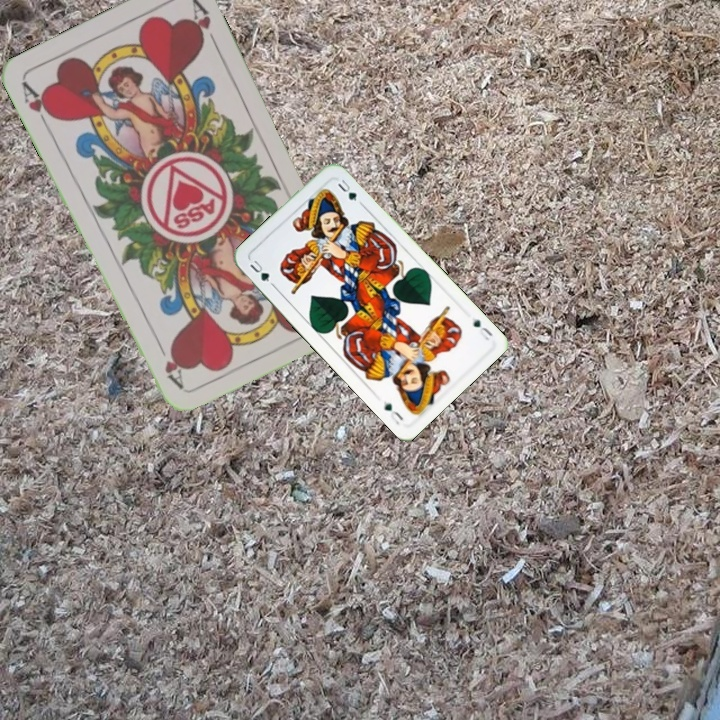GU: (469, 314, 496, 343), (246, 256, 272, 285)
HA: (18, 78, 58, 133)
